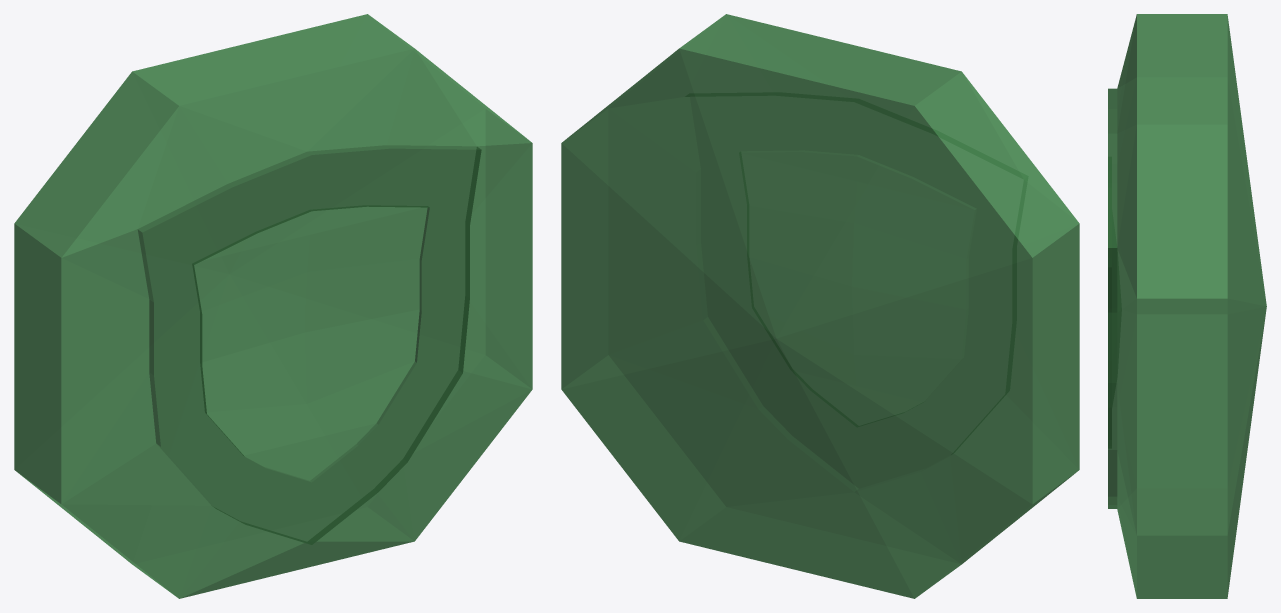
Rendered from ShieldPowerup.fbx.
The picture shows the model from 3 angles, left to right: view 1: azimuth 30°, elevation 25°; view 2: azimuth 150°, elevation 25°; view 3: azimuth 270°, elevation 25°; orthographic projection. The views are drawn at different scales.
Visible parts, largest first — view 1: ShieldPowerUp; view 2: ShieldPowerUp; view 3: ShieldPowerUp.
Part boxes in pixels (x1,y1,x2,y2): ShieldPowerUp: (14, 14, 532, 598); ShieldPowerUp: (561, 14, 1079, 598); ShieldPowerUp: (1108, 14, 1266, 598).
Size of the model in its own units: 200 by 200 by 60.66.
